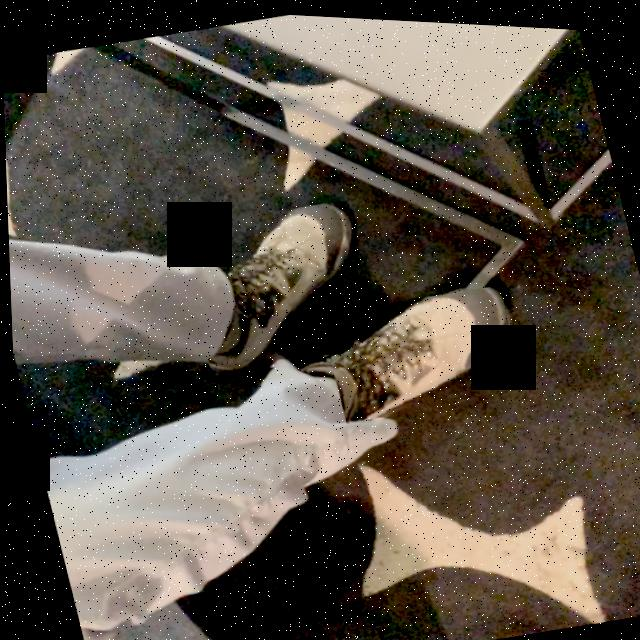shoe: (207, 199, 354, 371), (328, 281, 505, 418)
